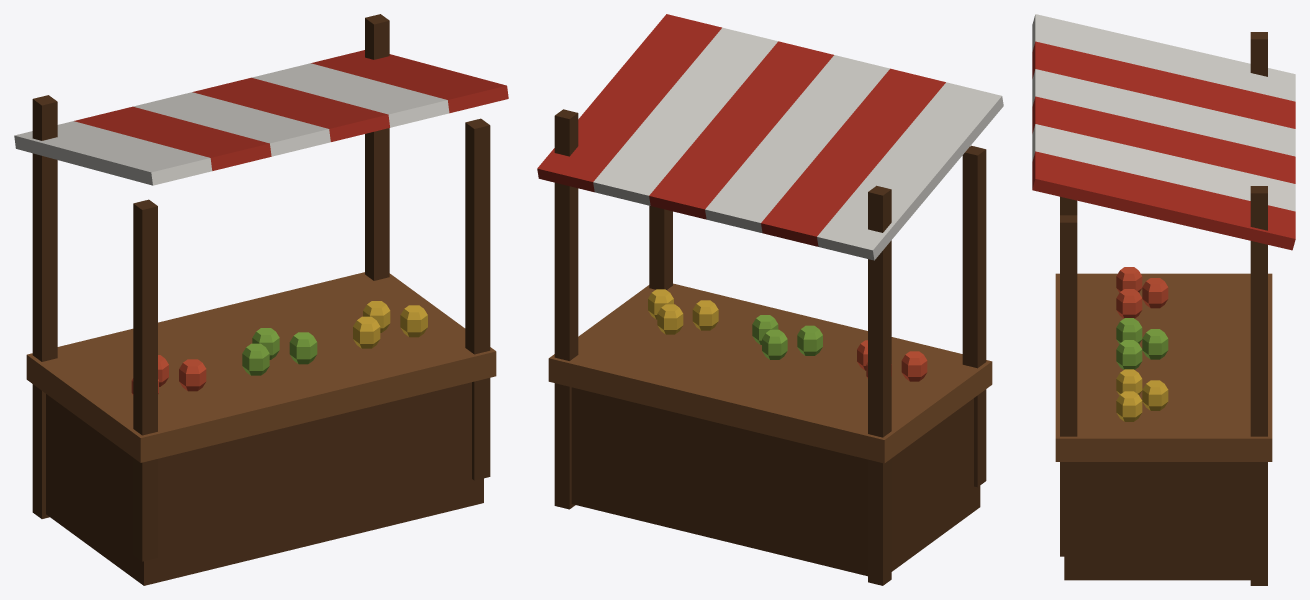
Rendered from market_stand.glb.
The picture shows the model from 3 angles, left to right: view 1: azimuth 30°, elevation 25°; view 2: azimuth 150°, elevation 25°; view 3: azimuth 270°, elevation 25°; orthographic projection. The views are drawn at different scales.
Visible parts, largest first — view 1: market_stand; view 2: market_stand; view 3: market_stand.
Boxes of the visible parts, <box> form: market_stand: <box>14,14,508,585</box>; market_stand: <box>537,14,1003,585</box>; market_stand: <box>1032,14,1295,585</box>.
Bounding box in the file's own units: 0.9 × 1.04 × 0.6081.
